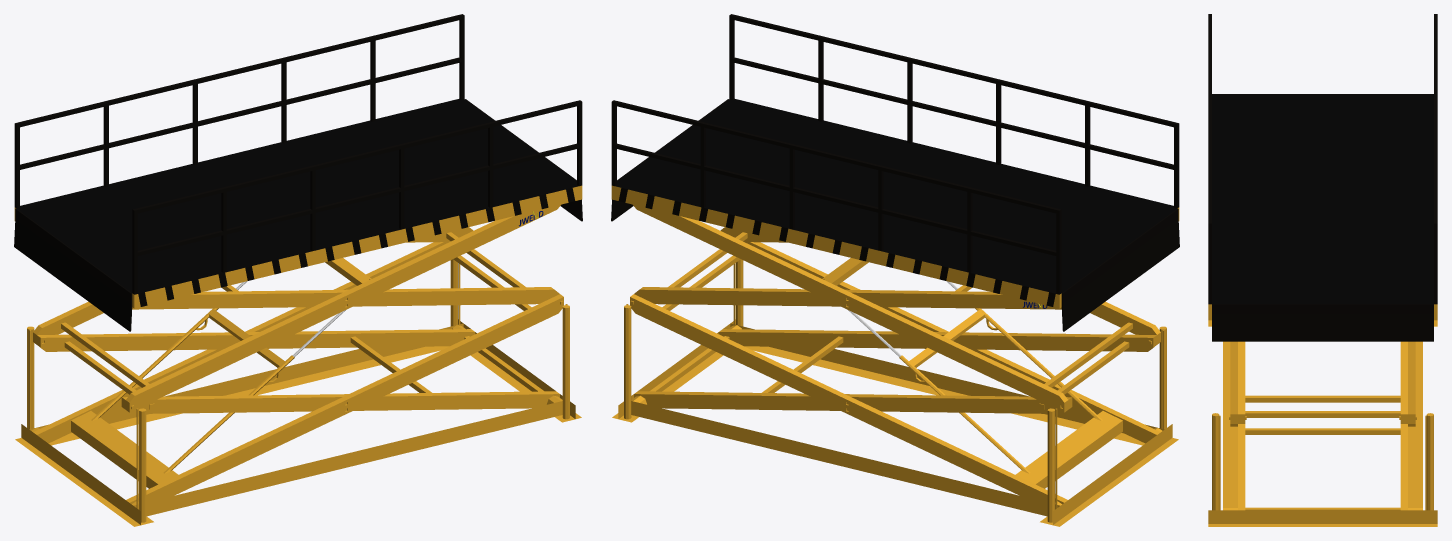
Rendered from 液压升降机.FBX.
3 renders of one model, left to right at view 1: azimuth 30°, elevation 25°; view 2: azimuth 150°, elevation 25°; view 3: azimuth 270°, elevation 25°, orthographic. The views are drawn at different scales.
Visible parts, largest first — view 1: 机身, 升降平台; view 2: 机身, 升降平台; view 3: 升降平台, 机身.
Part boxes in pixels (<box>): 机身: <box>14,185,582,526</box>; 升降平台: <box>14,14,582,331</box>; 机身: <box>611,185,1179,526</box>; 升降平台: <box>611,14,1179,331</box>; 升降平台: <box>1208,14,1437,341</box>; 机身: <box>1208,304,1437,526</box>.
Size of the model in its own units: 267 by 178 by 122.
